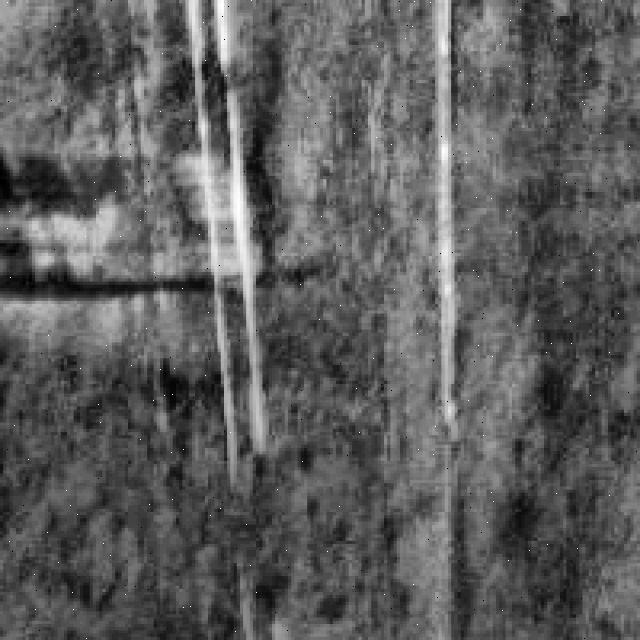Inclusion: (182, 0, 278, 467), (422, 0, 473, 419)
Patches: (7, 147, 276, 298)
